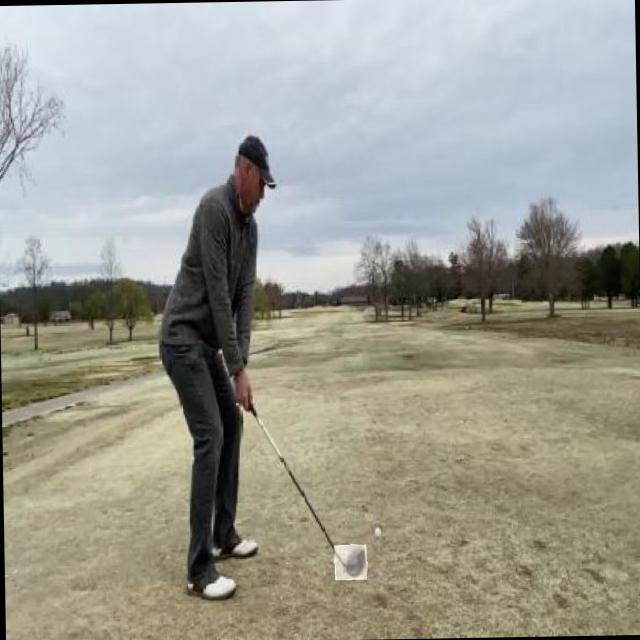club head: (334, 544, 366, 580)
